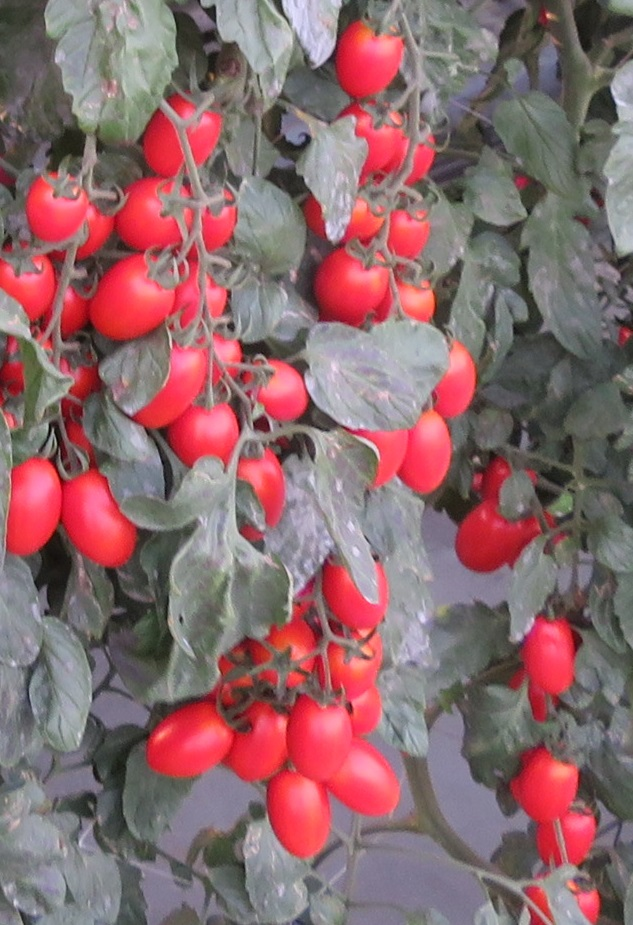red: (84, 255, 190, 337), (62, 459, 137, 565), (143, 90, 224, 177), (3, 447, 63, 564), (327, 17, 412, 98), (265, 774, 343, 861), (284, 689, 359, 778), (146, 708, 237, 780), (114, 173, 197, 251), (307, 250, 395, 318), (508, 737, 576, 820), (172, 249, 230, 343), (251, 610, 318, 690), (324, 556, 391, 632), (136, 348, 208, 417), (449, 503, 519, 573), (228, 699, 290, 774), (331, 760, 407, 821), (519, 608, 571, 697), (26, 174, 88, 244), (536, 801, 598, 870), (317, 632, 378, 699), (1, 248, 57, 318), (428, 338, 477, 418), (175, 399, 235, 464), (228, 447, 283, 516), (412, 412, 456, 498), (251, 355, 308, 421), (347, 104, 392, 185), (189, 182, 237, 253), (362, 424, 410, 491), (397, 118, 437, 189), (193, 333, 241, 387), (394, 204, 435, 266)
